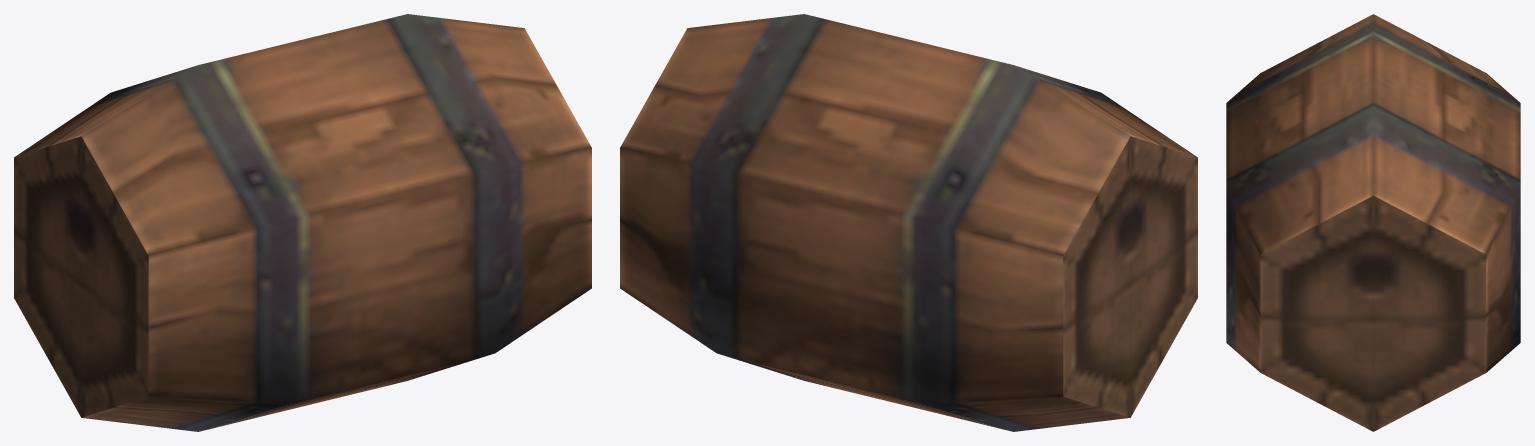
The model's file is common_city_mutong02.FBX.
3 renders of one model, left to right at view 1: azimuth 30°, elevation 25°; view 2: azimuth 150°, elevation 25°; view 3: azimuth 270°, elevation 25°, orthographic. The views are drawn at different scales.
Visible parts, largest first — view 1: common_city_mutong02; view 2: common_city_mutong02; view 3: common_city_mutong02.
Part boxes in pixels (x1,y1,x2,y2): common_city_mutong02: [14, 14, 591, 431]; common_city_mutong02: [620, 14, 1197, 431]; common_city_mutong02: [1226, 14, 1520, 431].
Size of the model in its own units: 136 by 108 by 93.23.
